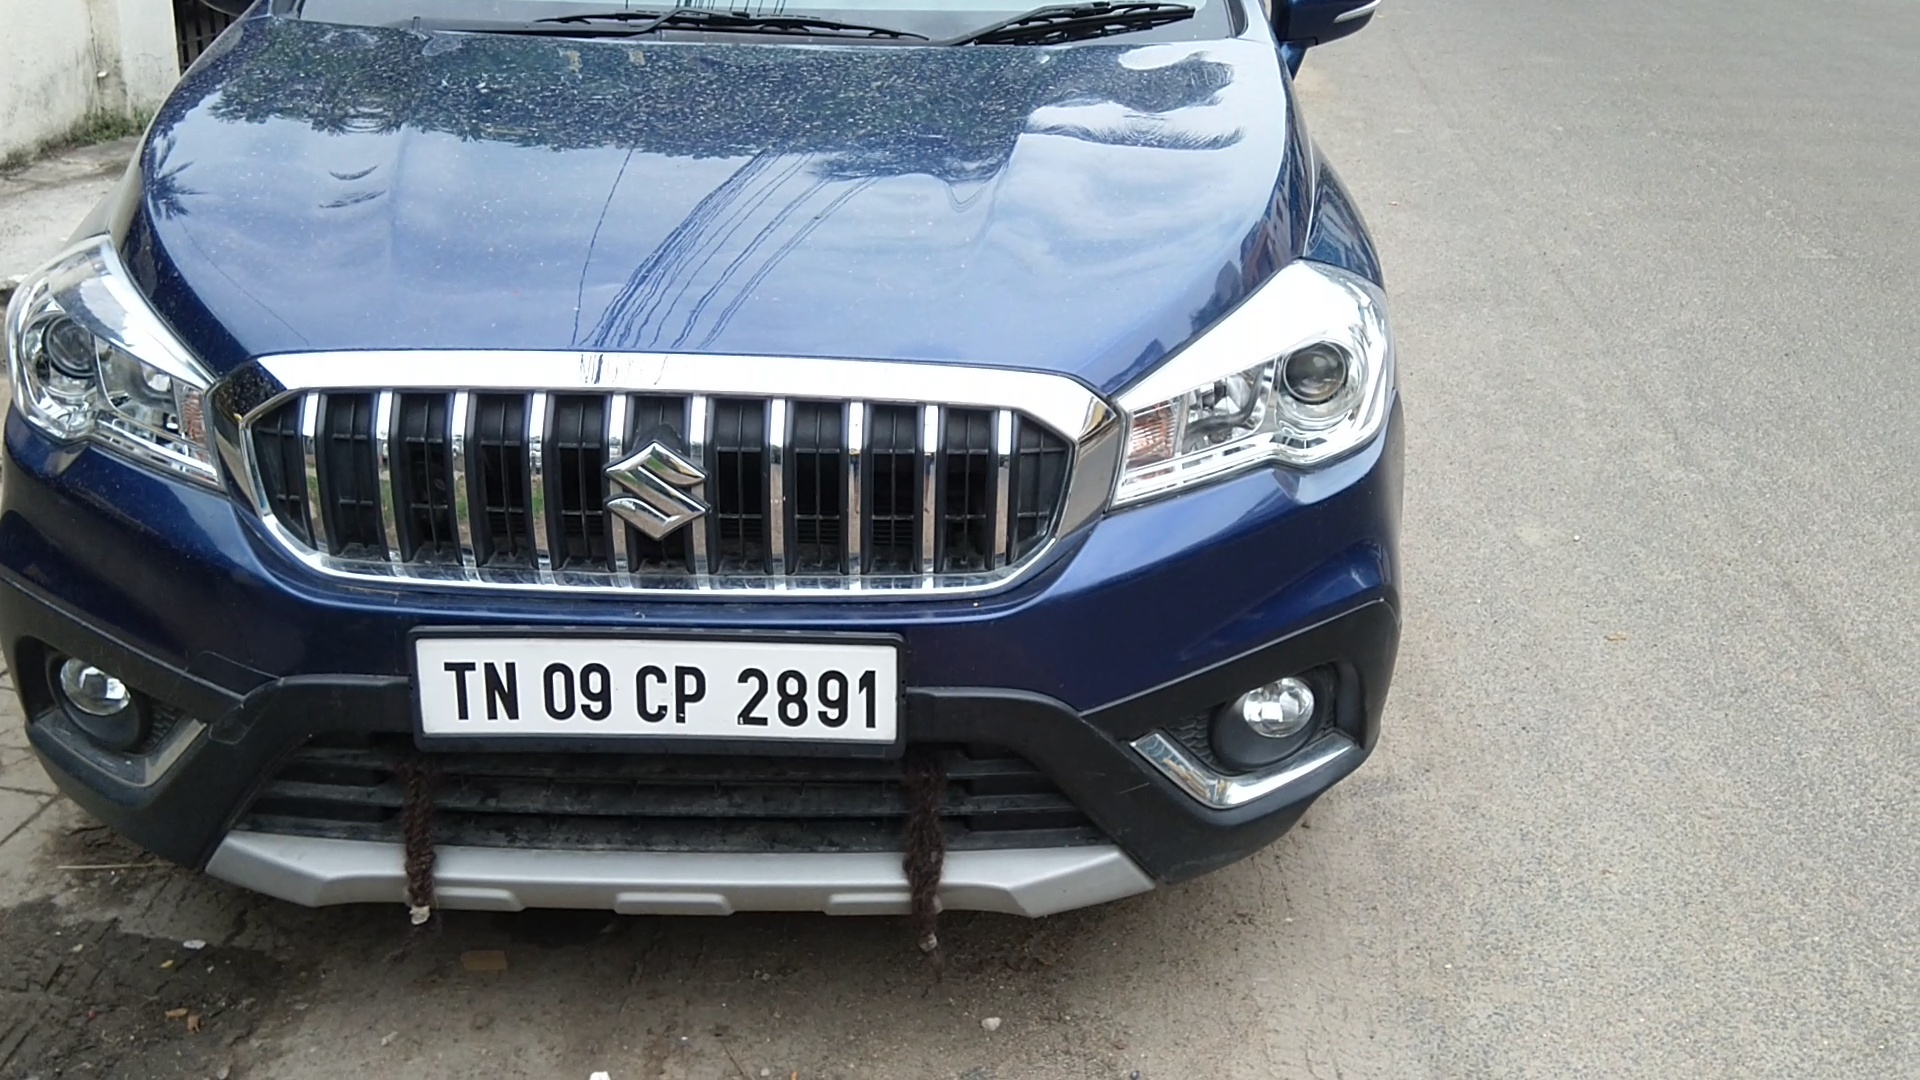front_grill: (229, 331, 1108, 616)
headlamp: (1120, 252, 1391, 555), (1, 231, 223, 472)
